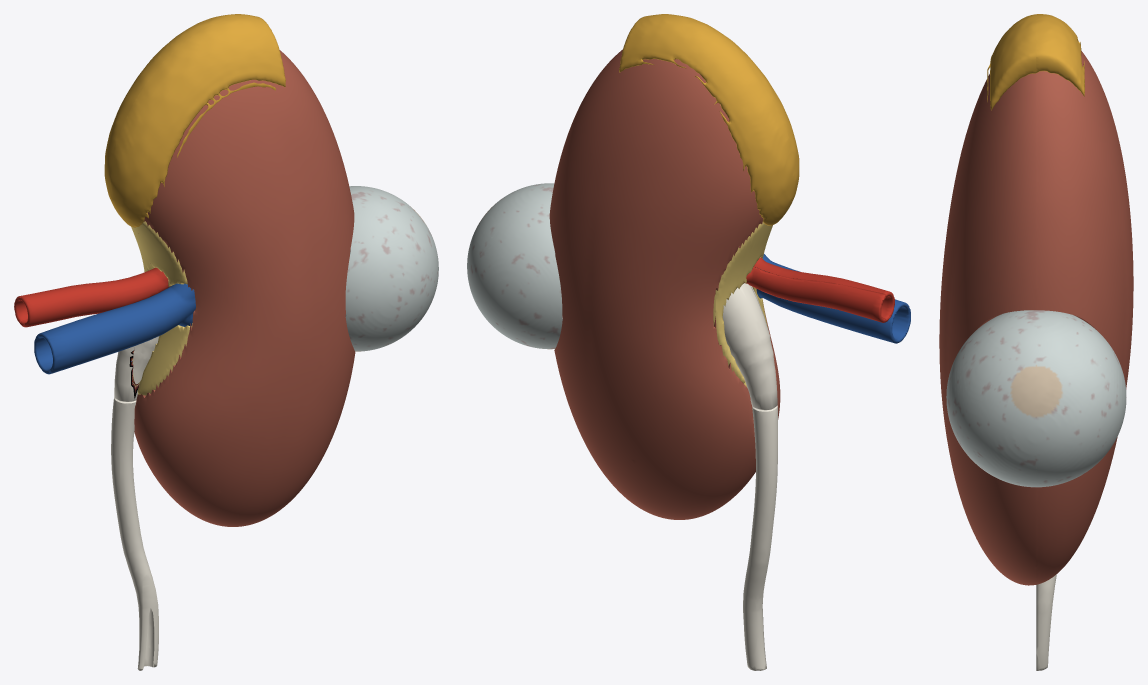
Rendered from kidney_bosniak_4_coronal.glb.
3 views of the same model, side by side, from view 1: azimuth 30°, elevation 25°; view 2: azimuth 150°, elevation 25°; view 3: azimuth 270°, elevation 25° (orthographic). The views are drawn at different scales.
Parts seen in each view (by area): view 1: anterior_half, ureter, adrenal_gland, renal_pelvis; view 2: renal_cortex, adrenal_gland, cyst, anterior_half, ureter, renal_pelvis, renal_artery, renal_sinus; view 3: anterior_half, renal_cortex, cyst, adrenal_gland, ureter.
Part boxes in pixels (x1,y1,x2,y2): anterior_half: [20, 18, 438, 526]; ureter: [111, 397, 158, 670]; adrenal_gland: [104, 14, 263, 224]; renal_pelvis: [114, 346, 139, 401]; renal_cortex: [549, 49, 763, 519]; adrenal_gland: [619, 15, 795, 225]; cyst: [467, 189, 562, 349]; anterior_half: [506, 14, 910, 511]; ureter: [743, 405, 777, 670]; renal_pelvis: [722, 283, 777, 410]; renal_artery: [744, 267, 886, 322]; renal_sinus: [713, 222, 768, 387]; anterior_half: [939, 14, 1036, 585]; renal_cortex: [1036, 51, 1133, 584]; cyst: [1036, 310, 1126, 487]; adrenal_gland: [1036, 14, 1084, 96]; ureter: [1036, 574, 1056, 670].
Bounding box in the file's own units: 9.65 × 14.23 × 3.66.
Materials: 1 (1 with a texture image).
